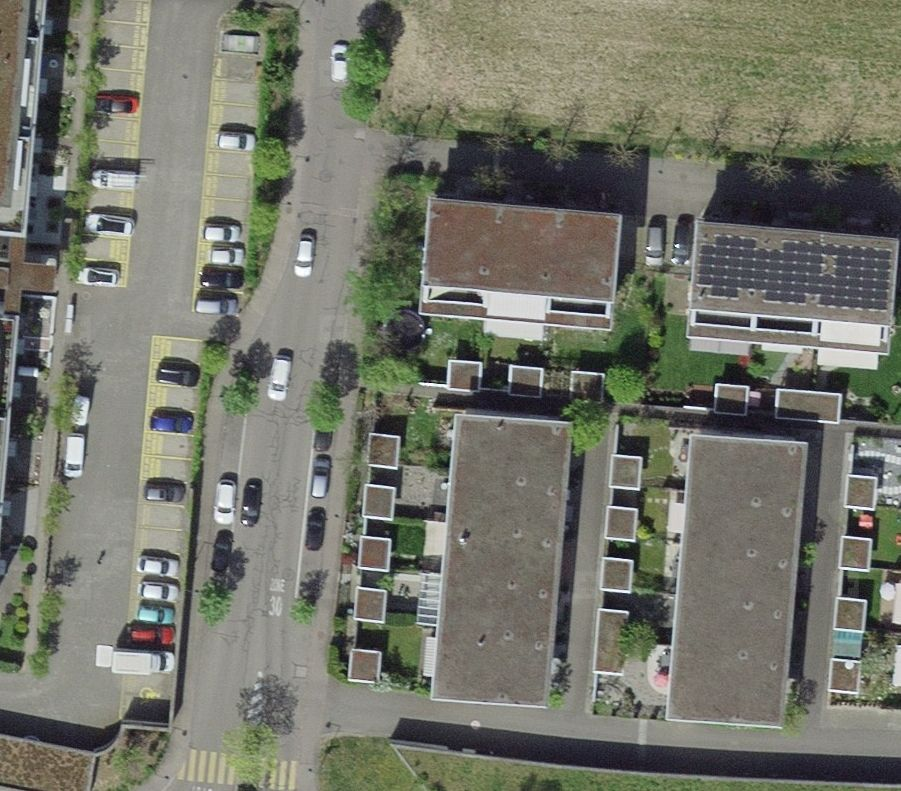solar: (696, 233, 894, 315)
